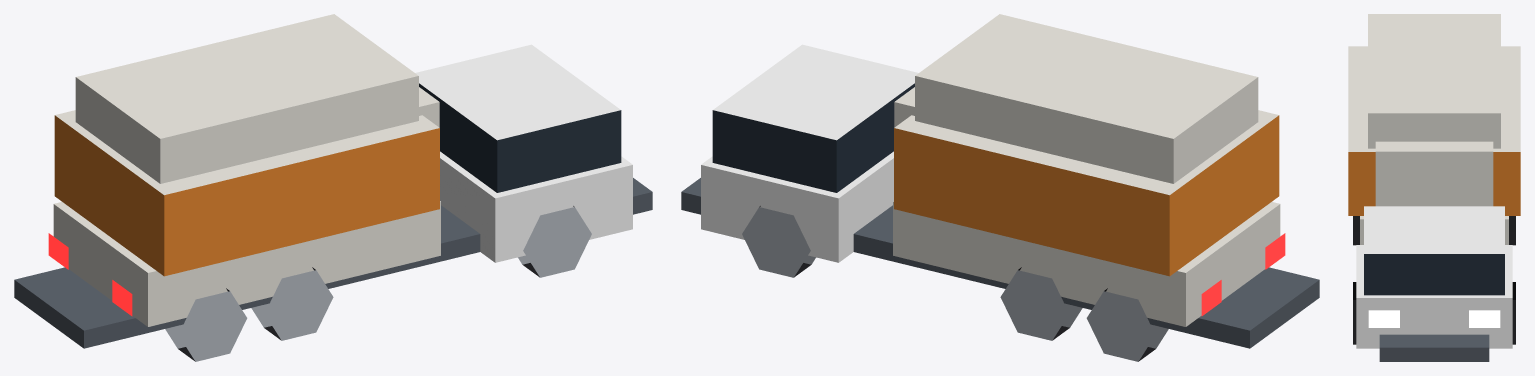
The model's file is truck_cement.glb.
3 views of the same model, side by side, from view 1: azimuth 30°, elevation 25°; view 2: azimuth 150°, elevation 25°; view 3: azimuth 270°, elevation 25° (orthographic). The views are drawn at different scales.
Parts seen in each view (by area): view 1: truck_cement; view 2: truck_cement; view 3: truck_cement.
Boxes of the visible parts, bbox=[...] form: truck_cement: bbox=[14, 14, 652, 361]; truck_cement: bbox=[681, 14, 1319, 361]; truck_cement: bbox=[1348, 14, 1520, 361].
Bounding box in the file's own units: 0.66 × 0.2466 × 0.22.
